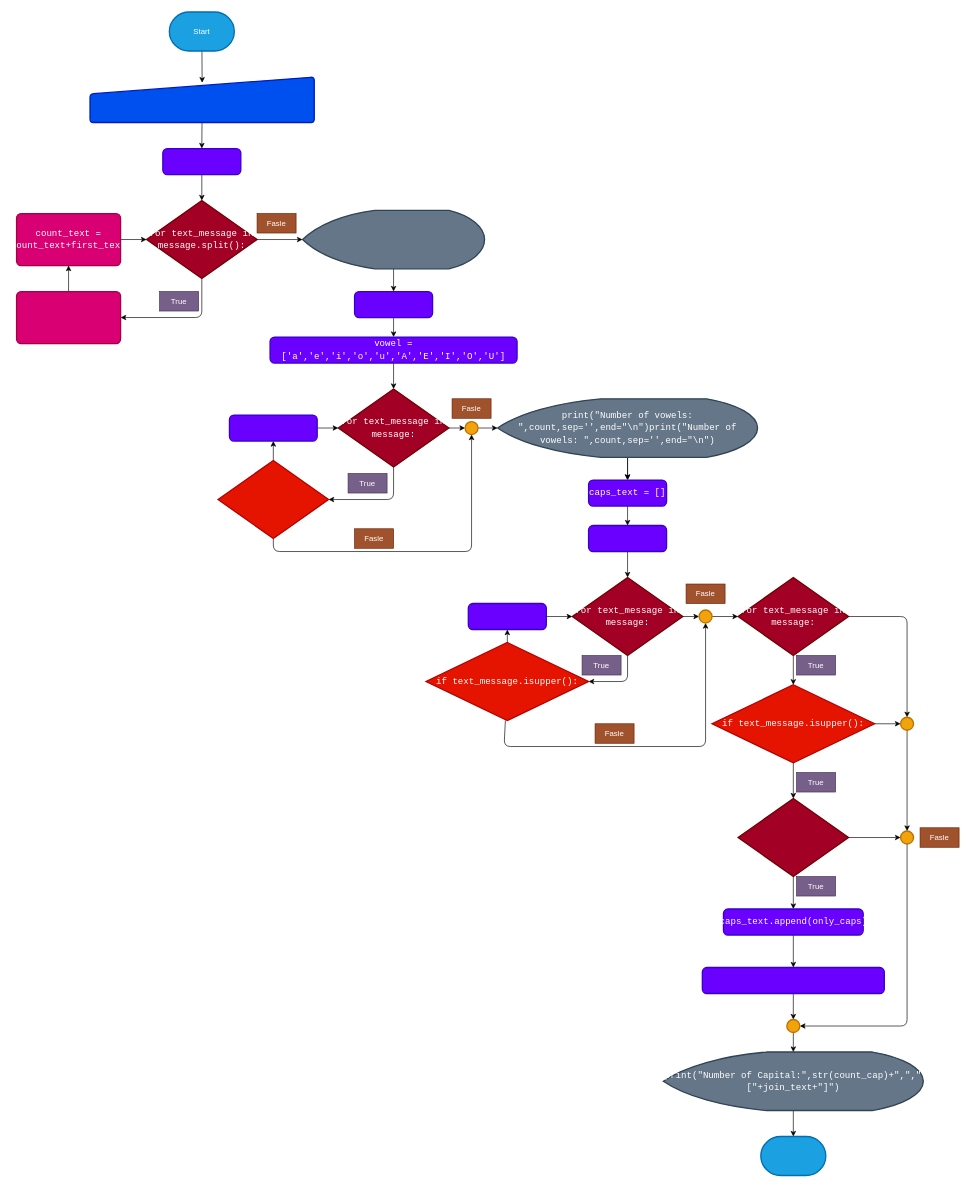
Image size: 970x1187. Some labels were removed from this diagram. Here are the shapes that lost their labels. From the top down, the centre of each, then its label:
(202,99): message = str(input('Input Your Messages:'))
(201,161): count_text = 0
(393,239): print('Number of Letters: ',count_text,sep='',end="\n")
(68,317): first_text = len(text_message)
(393,304): count = 0
(273,427): count = count + 1
(273,499): if text_message in vowel:
(627,538): count_cap = 0
(507,616): count_cap += 1
(793,837): for only_caps in text_message:
(793,980): join_text = ', '.join(caps_text)
(793,1156): End
